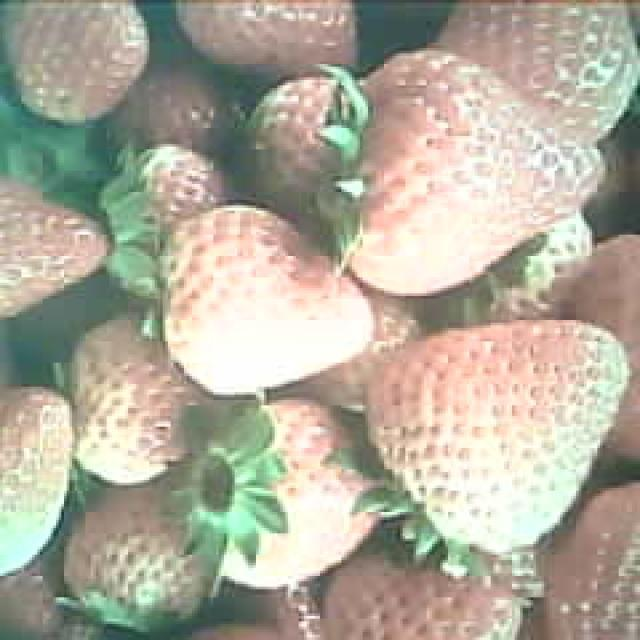strawberry: (328, 53, 606, 294), (374, 323, 631, 552), (163, 205, 378, 399)
